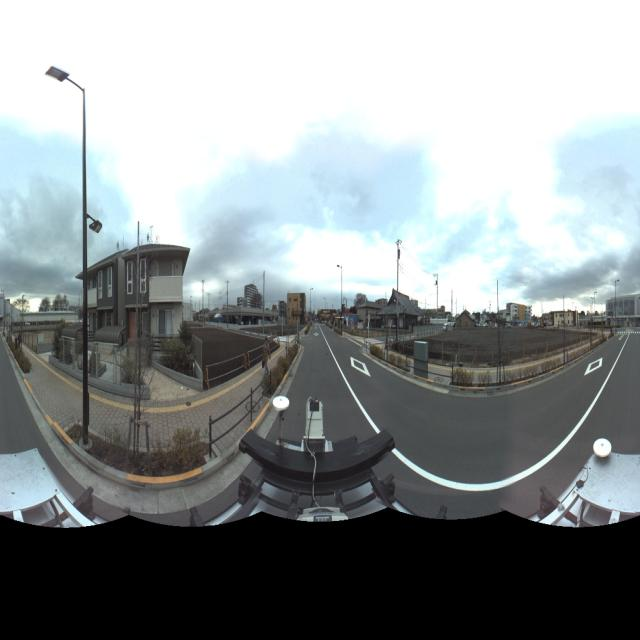b_1: (125, 227, 191, 363), (82, 251, 131, 355), (276, 285, 312, 345), (380, 289, 420, 339), (235, 272, 267, 326), (544, 297, 582, 332), (356, 291, 385, 330), (505, 295, 531, 328)
